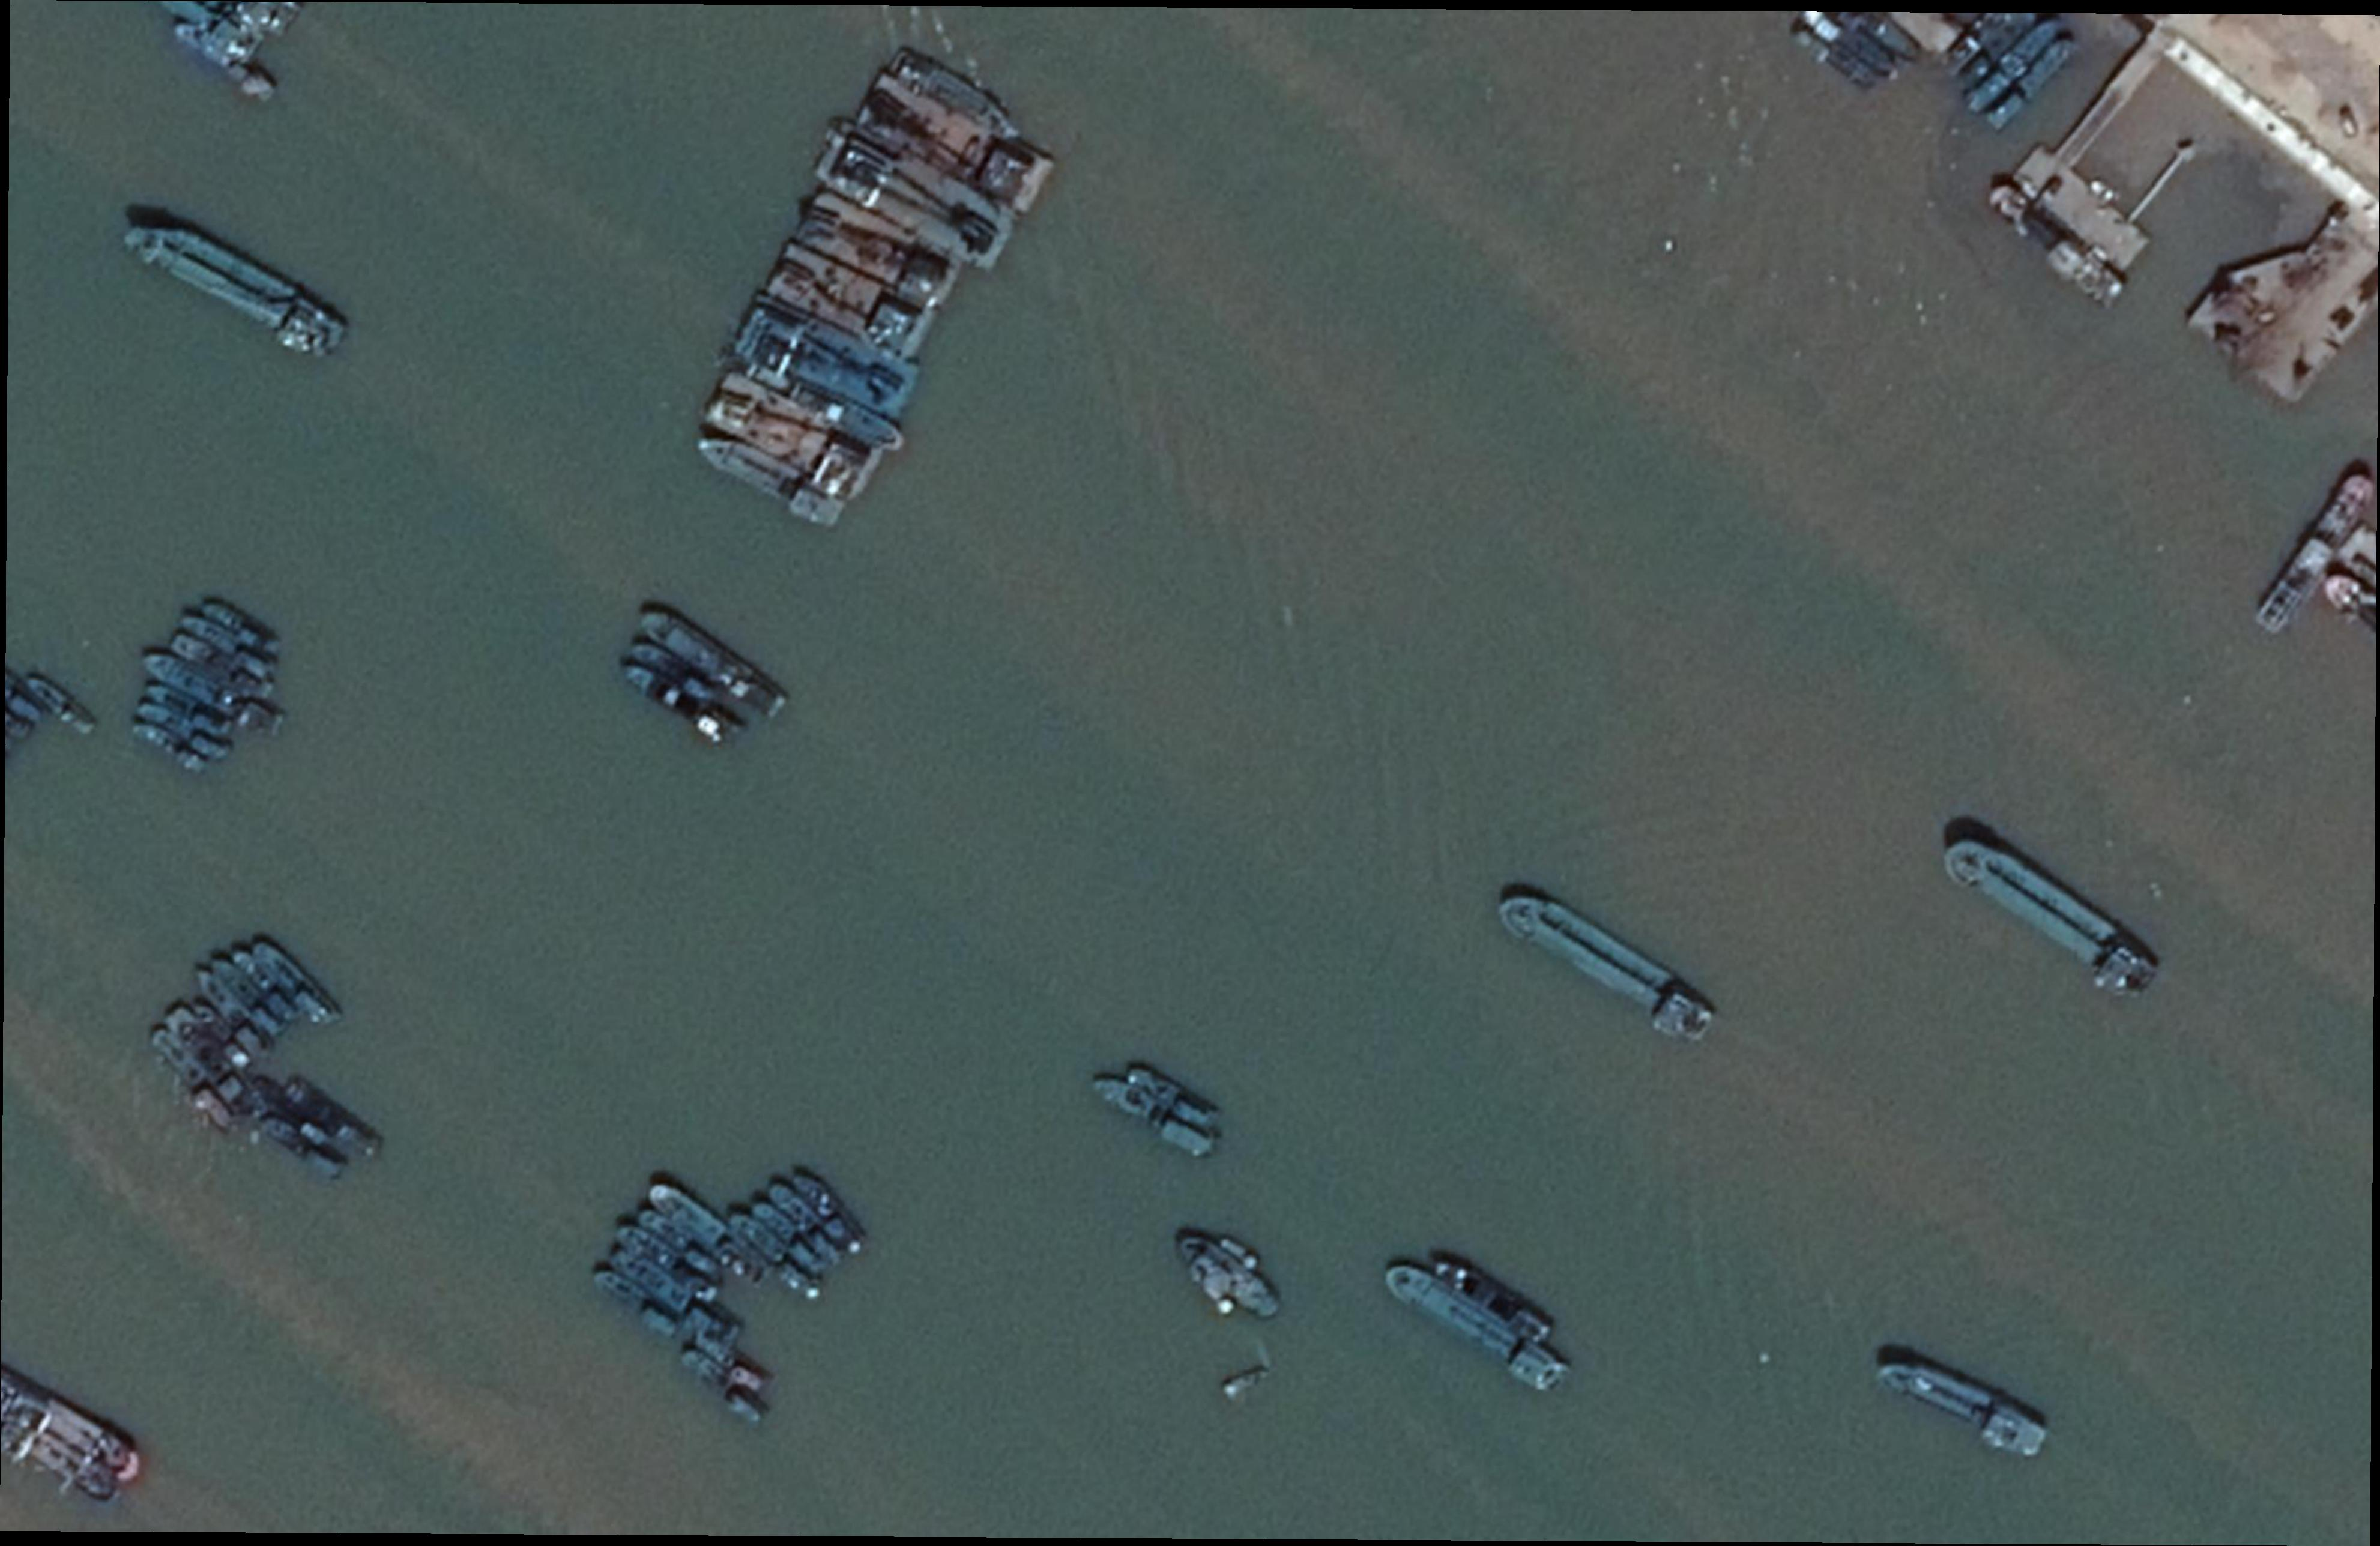harbor: (2023, 35, 2168, 217)
ship: (1490, 876, 1719, 1045), (1936, 829, 2161, 998), (120, 206, 350, 366), (814, 120, 1018, 269), (857, 75, 1055, 213), (1377, 1256, 1570, 1399), (730, 295, 923, 420), (704, 371, 881, 507), (1870, 1343, 2047, 1461), (2253, 470, 2377, 639), (767, 241, 938, 361), (798, 189, 964, 311), (1981, 179, 2128, 314), (633, 597, 788, 724), (690, 427, 847, 533), (642, 1175, 772, 1291), (605, 1246, 744, 1346), (141, 645, 284, 737), (161, 1001, 265, 1128), (1088, 1067, 1219, 1163), (1431, 1251, 1554, 1346), (888, 49, 1020, 137), (621, 661, 744, 750), (146, 1024, 239, 1140), (1173, 1227, 1284, 1324), (1960, 16, 2061, 116), (723, 1206, 826, 1305), (786, 378, 909, 455), (614, 1222, 722, 1305), (250, 937, 345, 1031), (1986, 35, 2076, 132), (189, 966, 279, 1064), (284, 1078, 383, 1161), (167, 630, 276, 704), (588, 1263, 689, 1343), (765, 1176, 850, 1270), (678, 1346, 772, 1430), (177, 609, 281, 680), (208, 954, 290, 1041), (633, 1204, 725, 1281), (786, 1168, 866, 1253), (749, 1196, 829, 1279), (1124, 1062, 1219, 1131), (630, 633, 720, 706), (255, 1110, 347, 1182), (137, 701, 236, 767), (227, 944, 305, 1027), (142, 678, 236, 739), (692, 1329, 774, 1399), (199, 593, 286, 656), (23, 671, 99, 739), (189, 996, 253, 1076), (132, 720, 208, 777)
